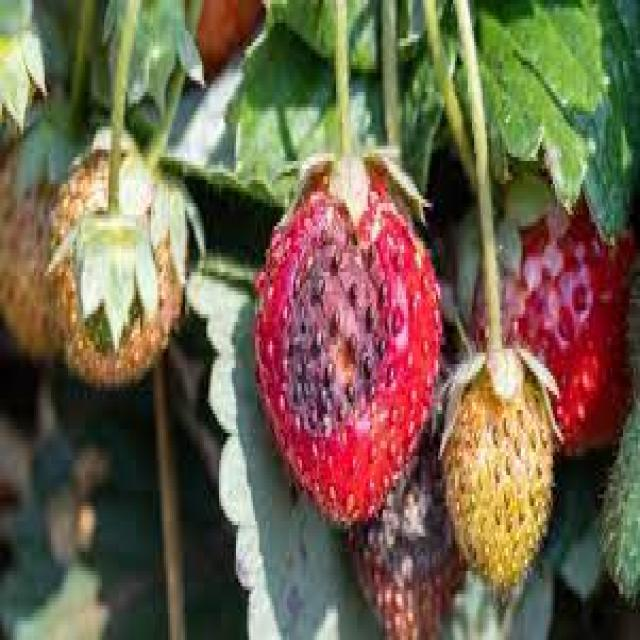Fruta sana: (502, 169, 639, 455)
Mancha negra Antracnosis: (255, 155, 438, 523), (354, 414, 461, 640)
Podredumbre de cuero: (59, 136, 188, 385), (446, 328, 556, 586)
